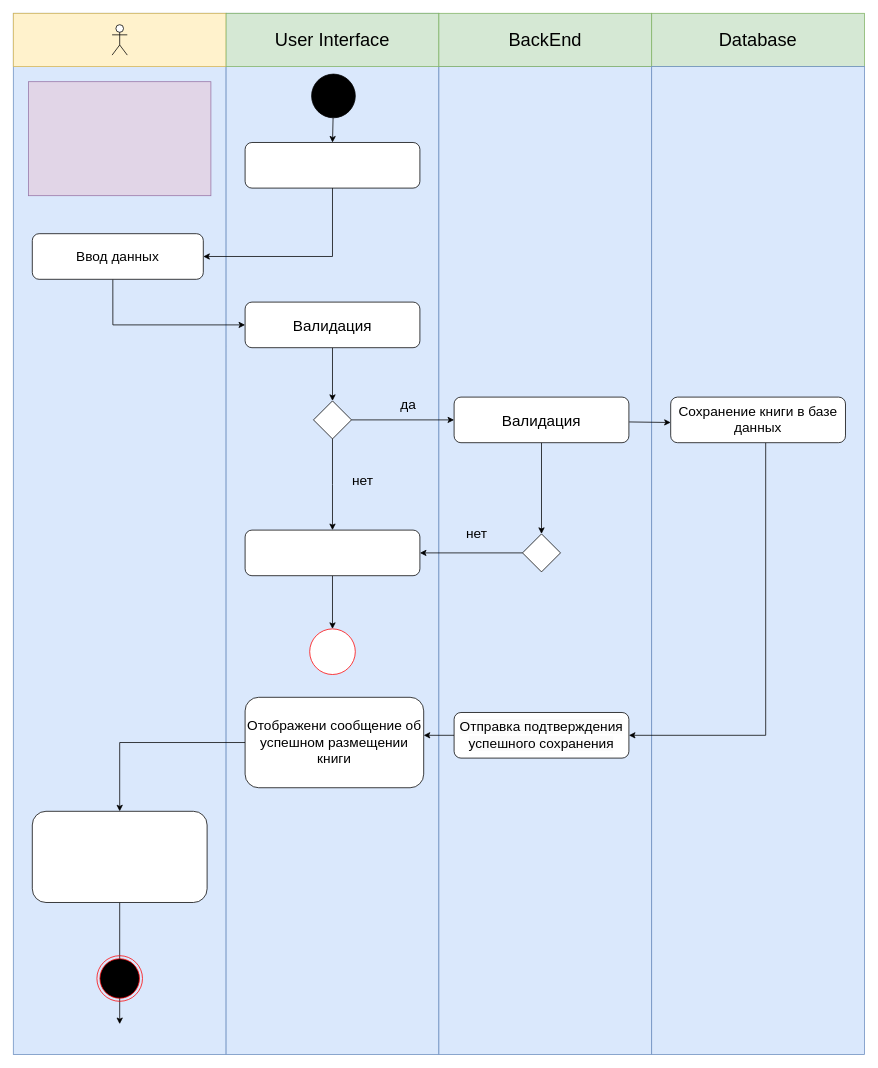
The diagram is 878 pixels wide and 1068 high, and some of its shapes have lost their labels. The centre of each missing label's shape, as x and y in pixels:
"Вывод сообщения об ошибке" goes at (x=332, y=552).
"Отобразить интерфейс для ввода данных книги" goes at (x=332, y=165).
"Просмотр сообщения об успешном размещении книги" goes at (x=119, y=856).
"Роль: Хранитель (владелец книги) Деятельность: размещение книги" goes at (x=119, y=138).
